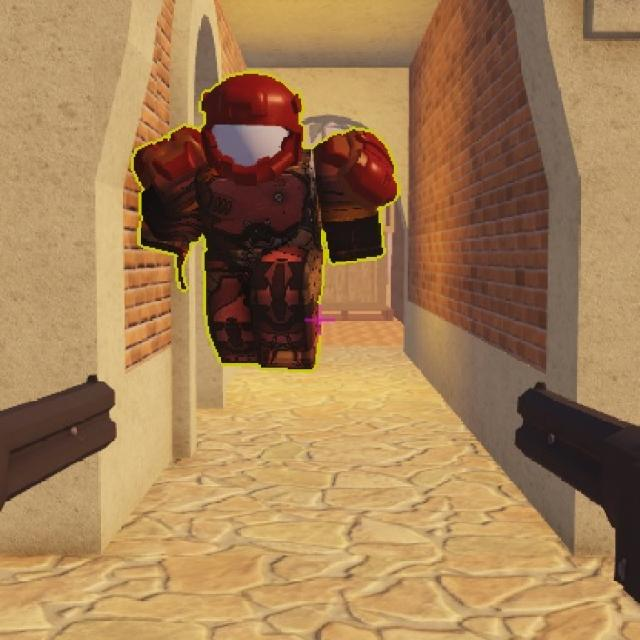player: (146, 72, 339, 374)
